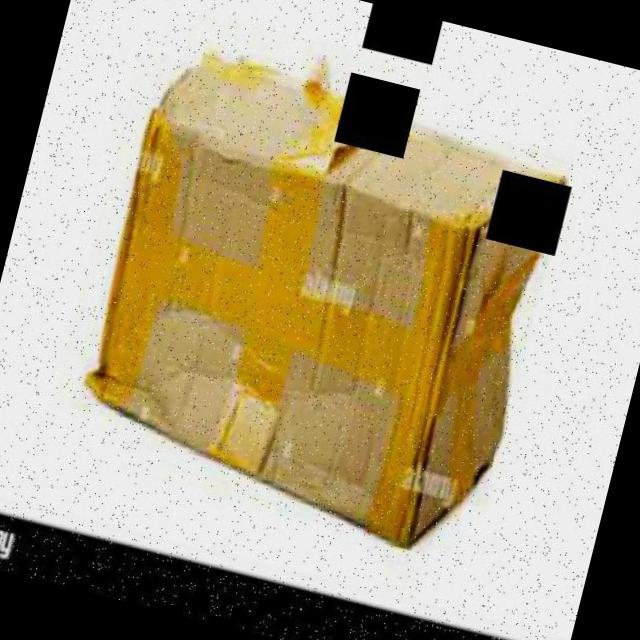box: (57, 31, 584, 570)
